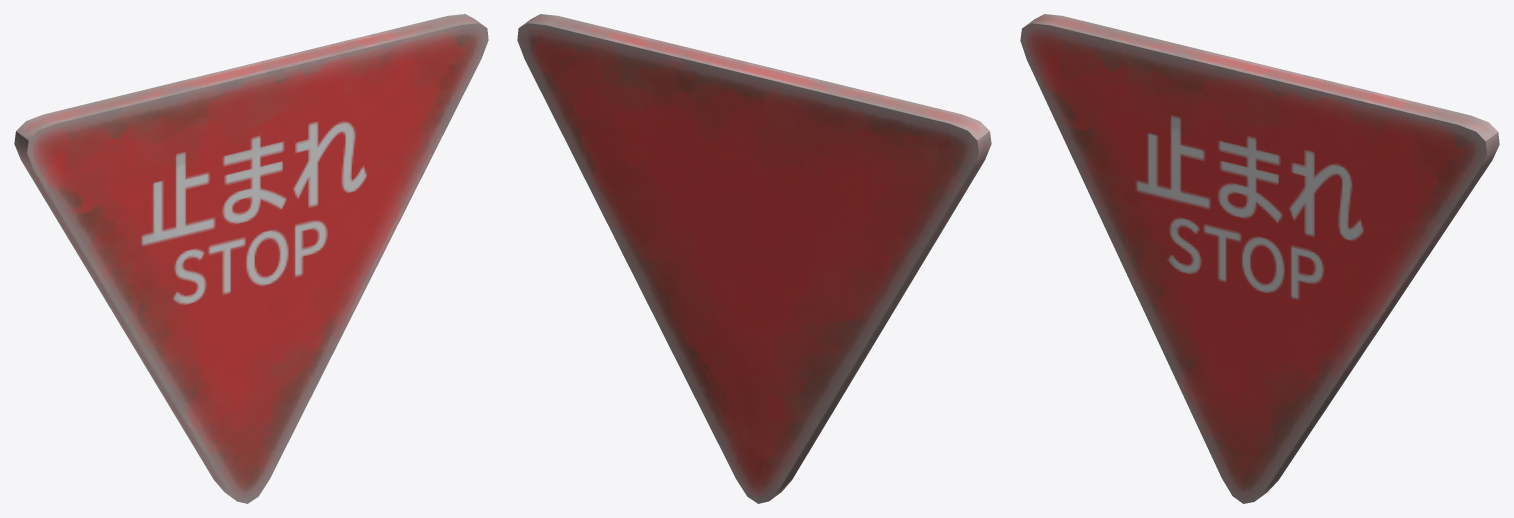
Rendered from SM_roadsign_stop.fbx.
3 views of the same model, side by side, from view 1: azimuth 30°, elevation 25°; view 2: azimuth 150°, elevation 25°; view 3: azimuth 330°, elevation 25° (orthographic).
Parts seen in each view (by area): view 1: Object32309; view 2: Object32309; view 3: Object32309.
Part boxes in pixels (bbox=[...]): Object32309: bbox=[14, 14, 488, 503]; Object32309: bbox=[517, 14, 991, 503]; Object32309: bbox=[1020, 14, 1499, 503].
Bounding box in the file's own units: 23.33 × 20.62 × 1.11.
